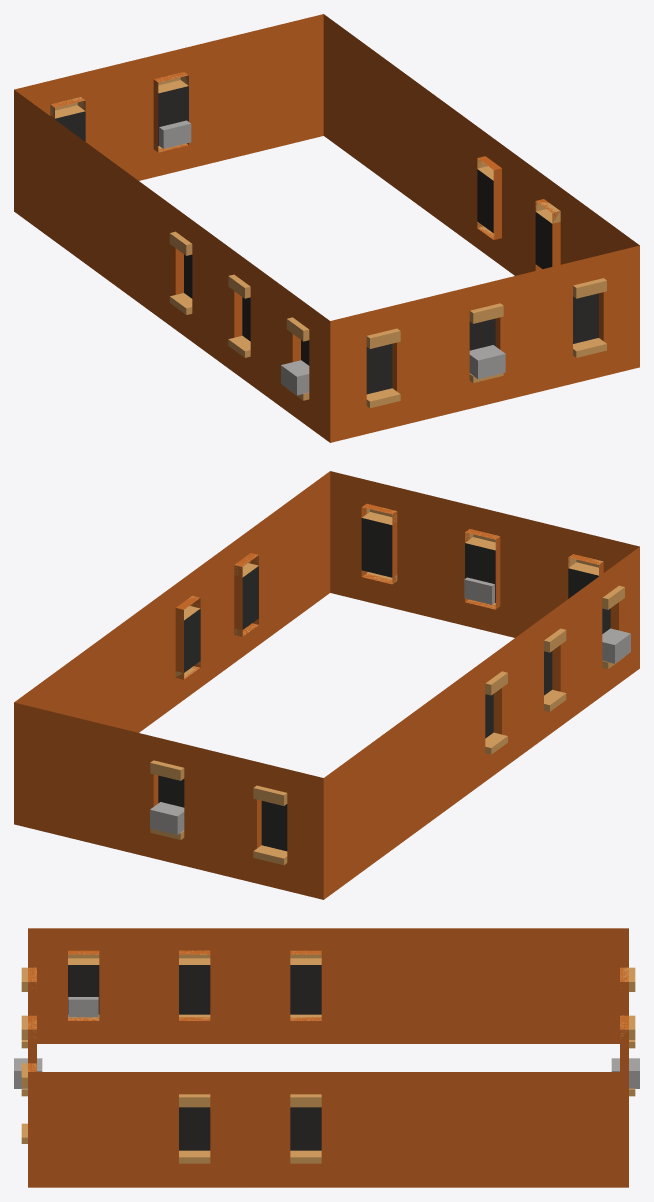
Rendered from building3_middle.fbx.
The picture shows the model from 3 angles, top to bottom: view 1: azimuth 30°, elevation 25°; view 2: azimuth 150°, elevation 25°; view 3: azimuth 270°, elevation 25°; orthographic projection. The views are drawn at different scales.
Parts seen in each view (by area): view 1: building3_middle; view 2: building3_middle; view 3: building3_middle.
Boxes of the visible parts, box(x1,y1,x2,y2) form: building3_middle: box(14, 14, 639, 442); building3_middle: box(14, 471, 639, 899); building3_middle: box(14, 928, 639, 1187).
Size of the model in its own units: 703 by 250 by 1225.
